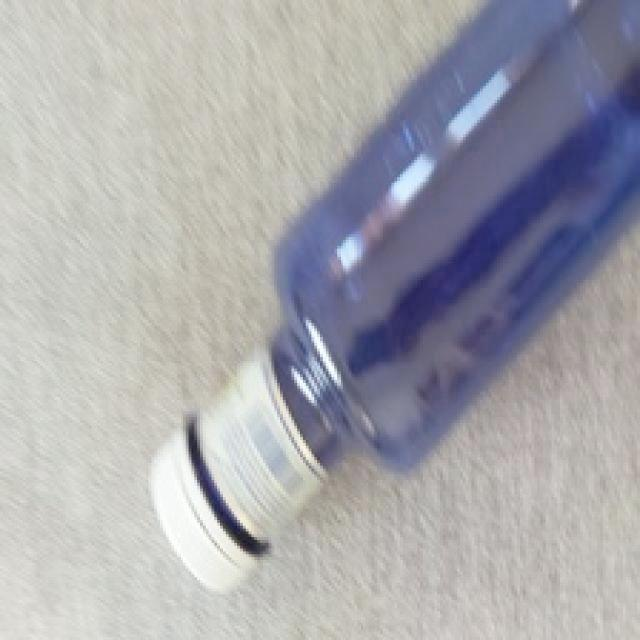bottle: (147, 0, 640, 591)
